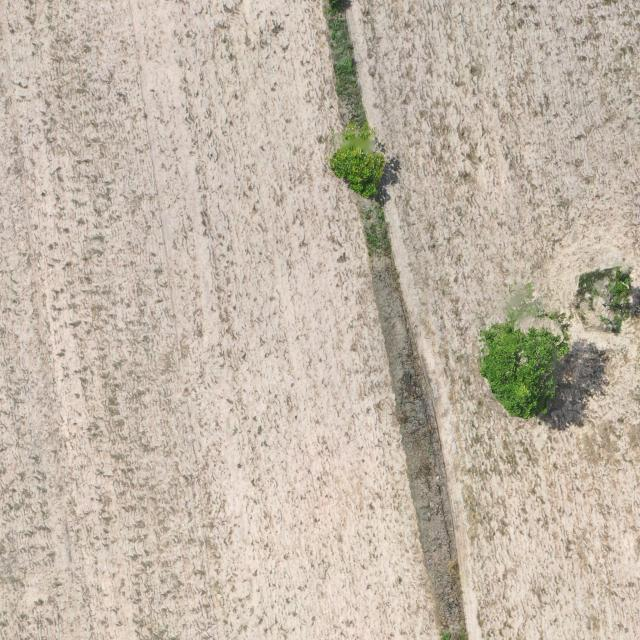Tree: (476, 321, 570, 422), (329, 122, 388, 198)
